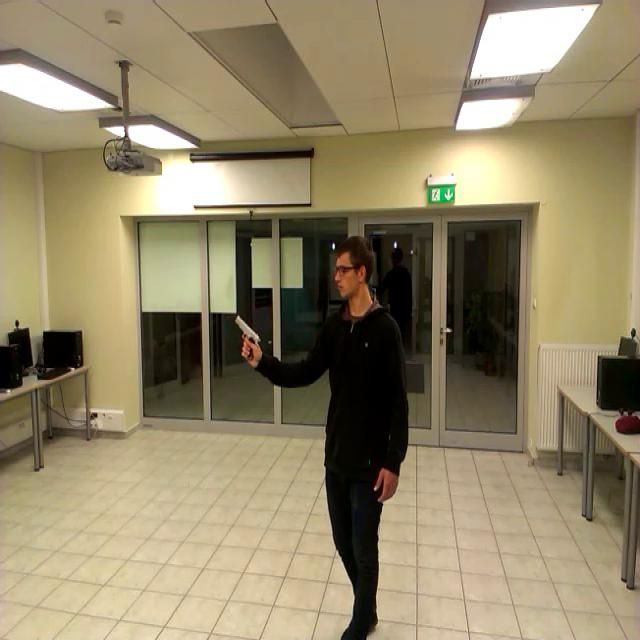handgun: (234, 312, 266, 367)
